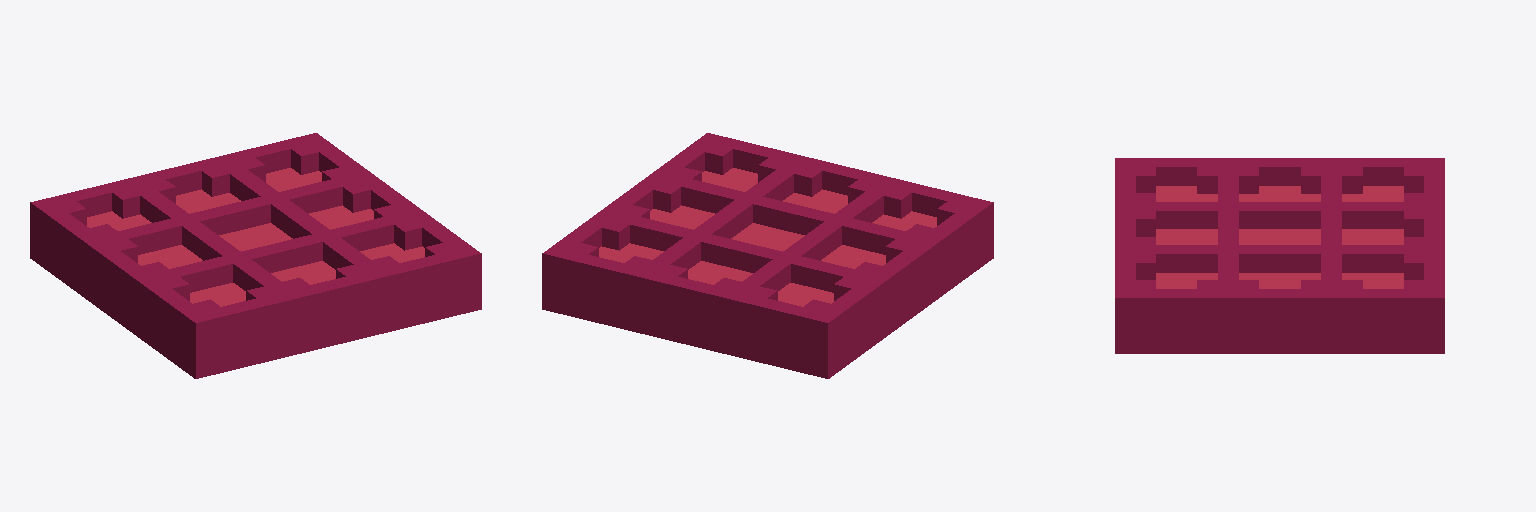
3 views of the same model, side by side, from view 1: azimuth 30°, elevation 25°; view 2: azimuth 150°, elevation 25°; view 3: azimuth 270°, elevation 25° (orthographic).
Parts seen in each view (by area): view 1: object 1; view 2: object 1; view 3: object 1.
Part boxes in pixels (left/top/right/bottom): object 1: left=30, top=133, right=481, bottom=378; object 1: left=542, top=133, right=993, bottom=378; object 1: left=1115, top=158, right=1444, bottom=353.
Size of the model in its own units: 1.6 by 0.3 by 1.6.
Materials: 1 (1 with a texture image).